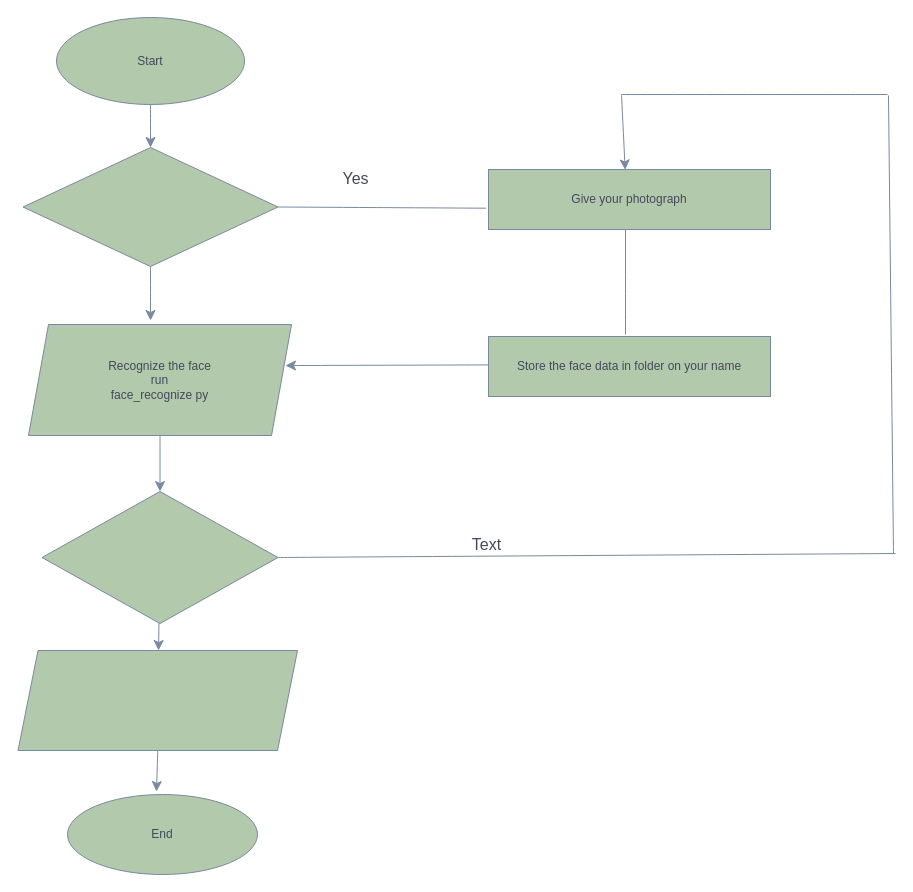
The diagram is 913 pixels wide and 892 high, and some of its shapes have lost their labels. Here are the shapes that lost their labels. From the top down, the centre of each, then its label:
At point (150, 206): "New user? run create_dataset py".
At point (159, 557): "Face Recognize".
At point (157, 700): "Stored in csv file with Registration number &date time of entry".
